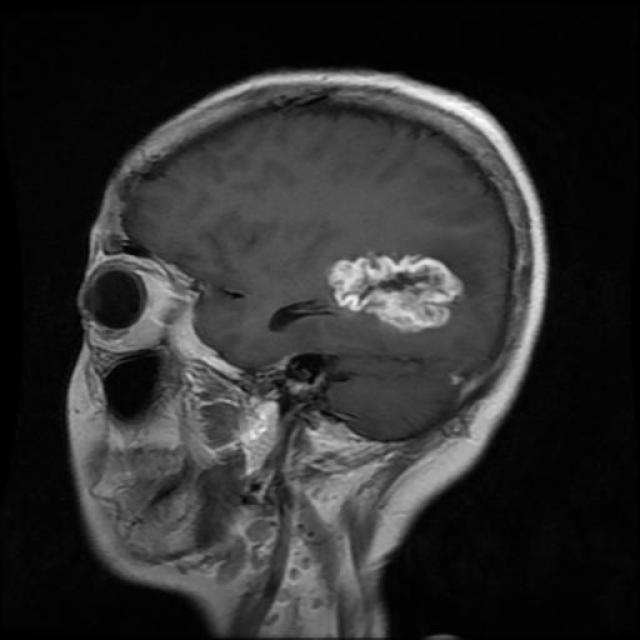glioma: (326, 252, 465, 332)
